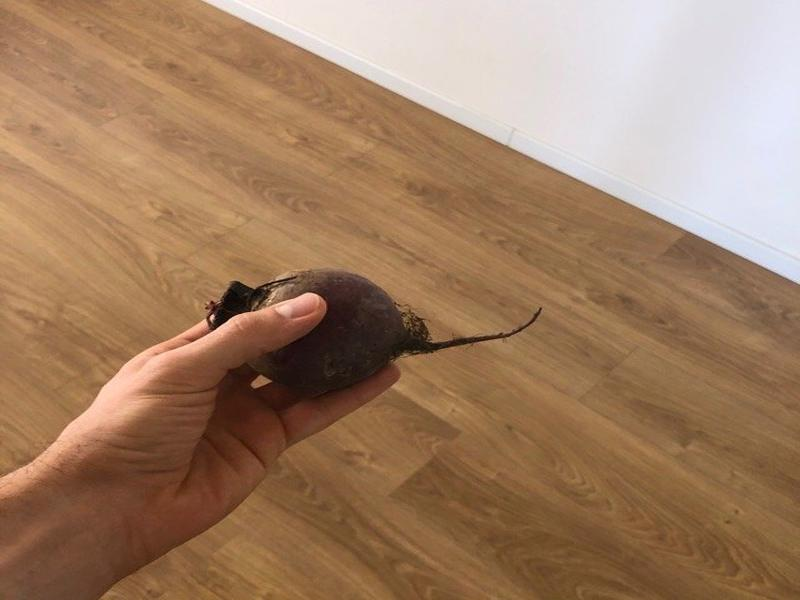Beet: (206, 270, 542, 390)
